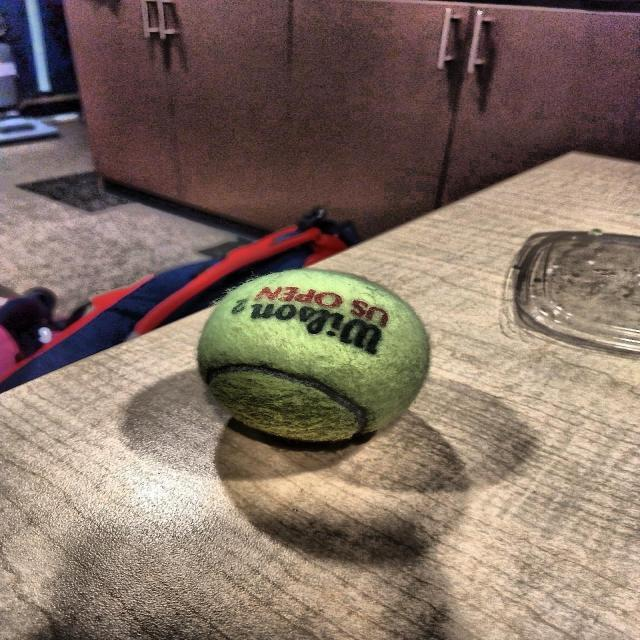tennis-ball: (198, 266, 428, 449)
